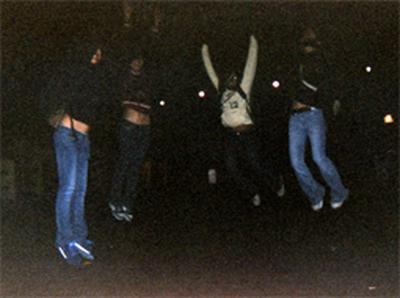person: (47, 21, 122, 272), (191, 28, 289, 212), (284, 26, 352, 215), (108, 40, 161, 228)
